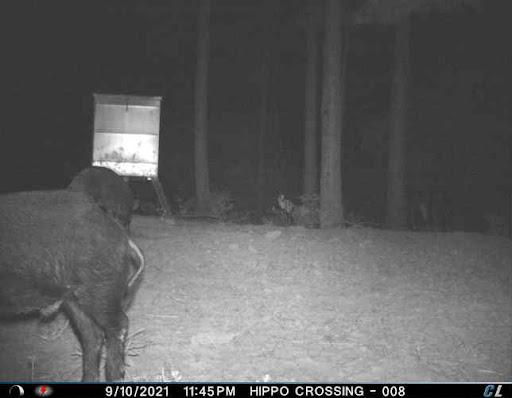Hog: (5, 188, 142, 378), (65, 163, 140, 239)
